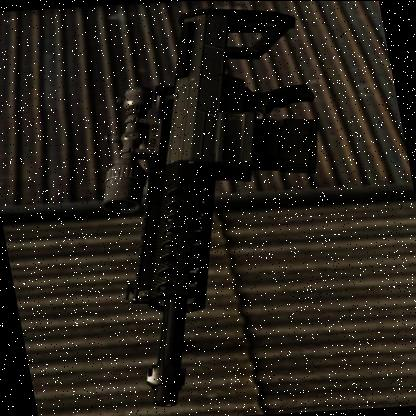rifle: (60, 3, 374, 411)
